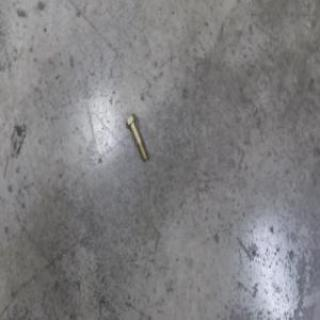Bolttrack_idkeyframe: (126, 113, 150, 162)
